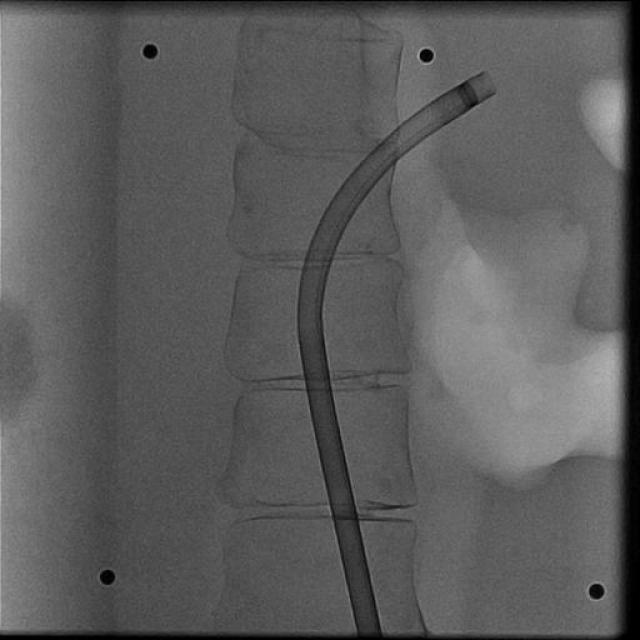bend: (297, 315, 323, 332)
entry: (355, 626, 384, 636)
marker: (456, 81, 480, 110)
tip: (482, 73, 496, 92)
